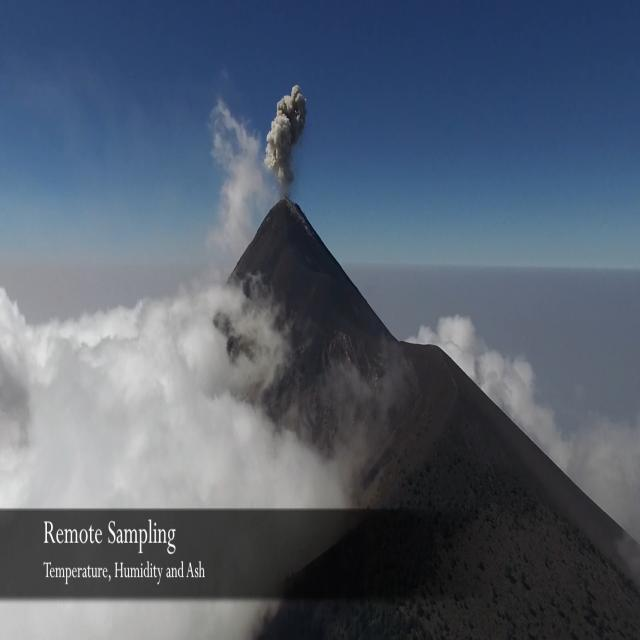Plume: (257, 80, 313, 196)
Summit: (108, 194, 490, 421)
